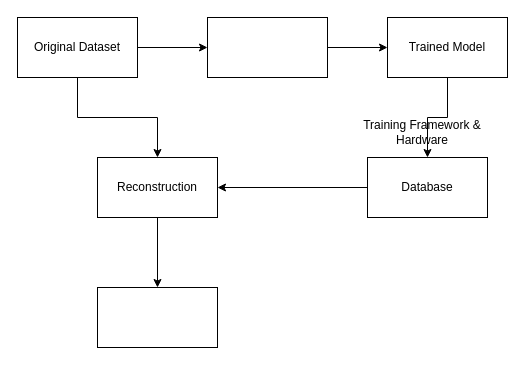
The diagram is 525 pixels wide and 365 high, and some of its shapes have lost their labels. The shapes that lost their labels are listed below. From the top down, each one's centre as x and y in pixels, then its label:
At pixel 267 47: "Training data".
At pixel 157 317: "Output".
